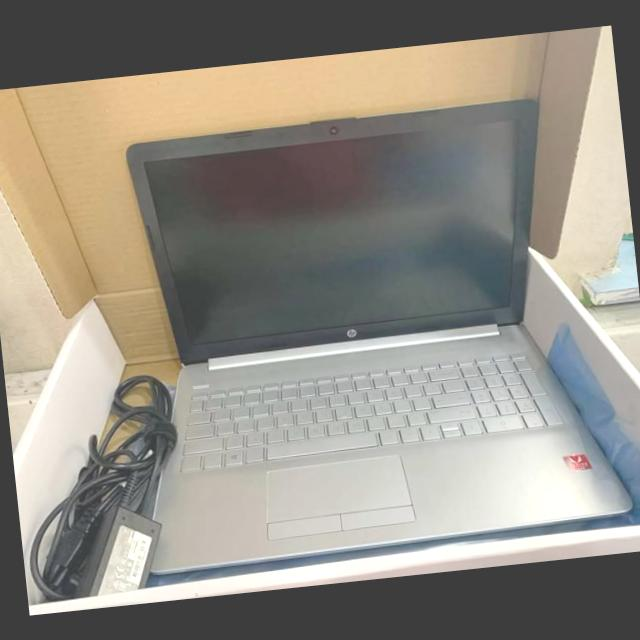laptop: (125, 101, 629, 574)
